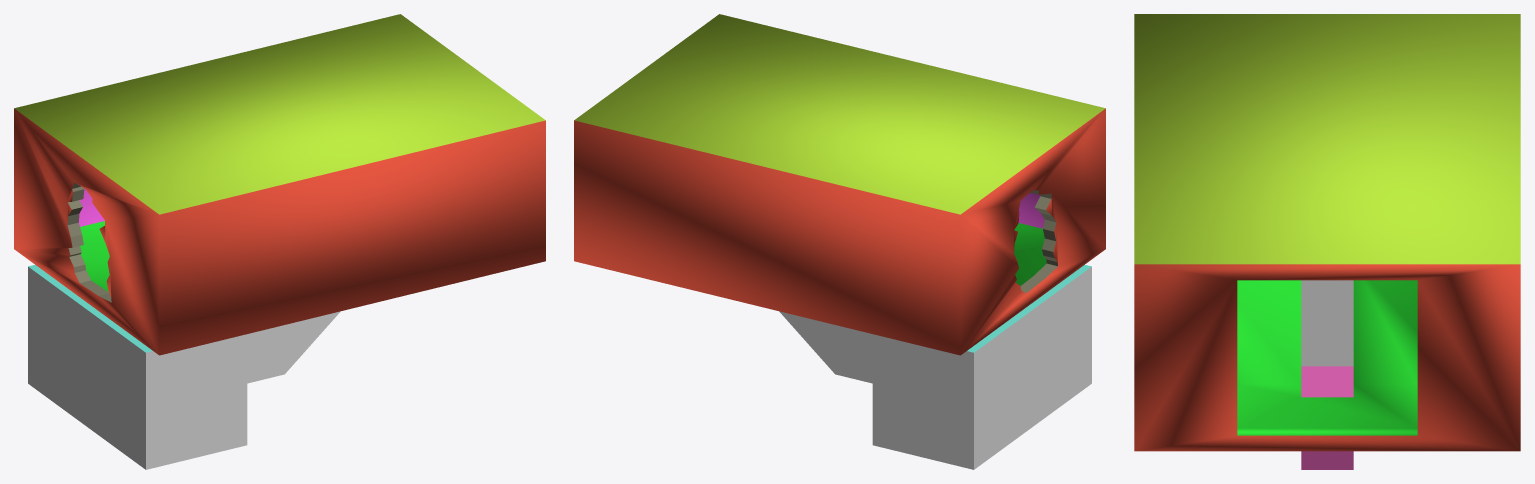
File: holeBasementGarageNoTextMaterials.fbx
3 views of the same model, side by side, from view 1: azimuth 30°, elevation 25°; view 2: azimuth 150°, elevation 25°; view 3: azimuth 270°, elevation 25° (orthographic). The views are drawn at different scales.
Parts seen in each view (by area): view 1: Куб.002; view 2: Куб.002; view 3: Куб.002.
Boxes of the visible parts, x1,y1,x2,y2 form: Куб.002: (14,14,545,469); Куб.002: (574,14,1105,469); Куб.002: (1134,14,1520,469).
Size of the model in its own units: 690 by 453 by 450.
